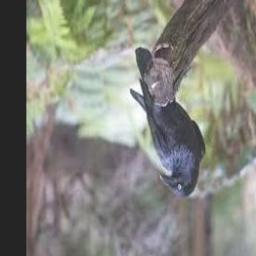Crow: (130, 79, 206, 198)
